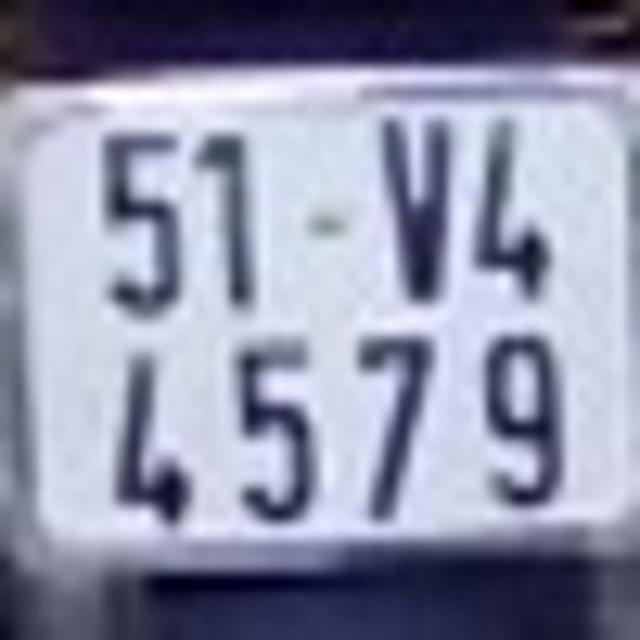1: (192, 130, 268, 305)
4: (350, 320, 432, 527), (114, 333, 194, 524), (474, 120, 553, 301)
5: (96, 120, 185, 320), (238, 323, 318, 520)
9: (472, 319, 571, 506)
V: (380, 116, 456, 304)
